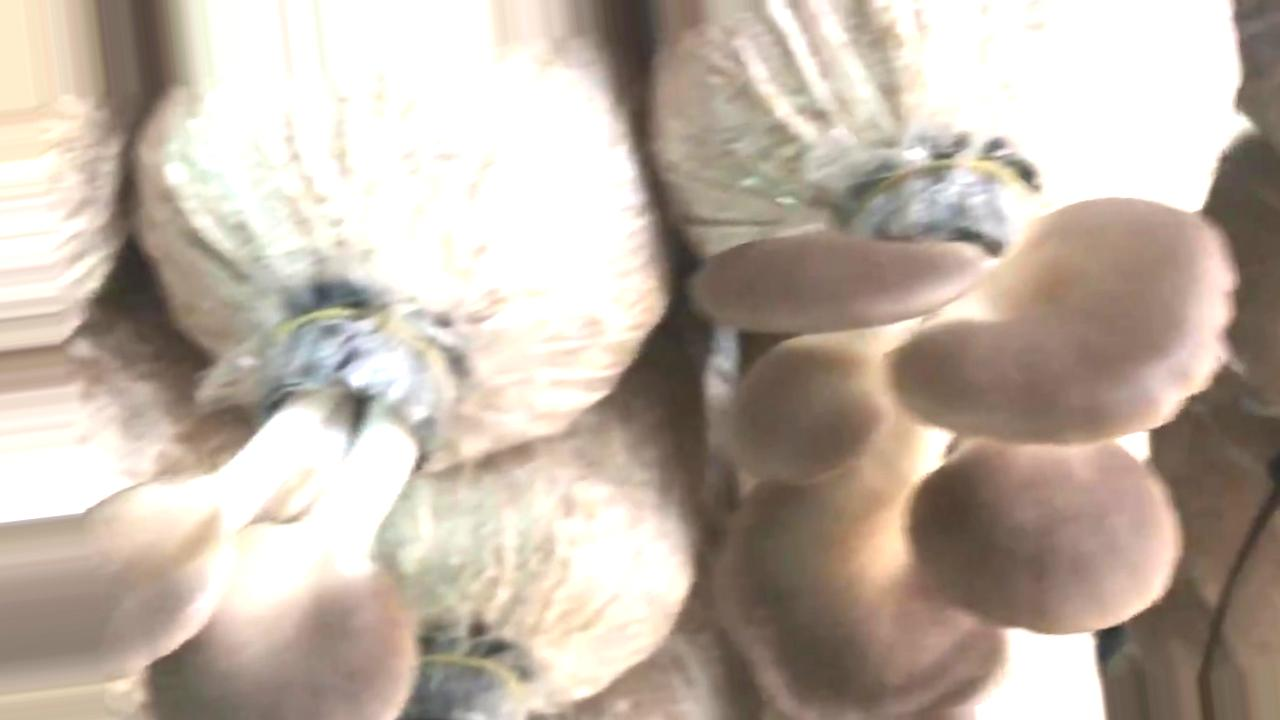nam: (691, 164, 1222, 720), (1, 312, 453, 720)
